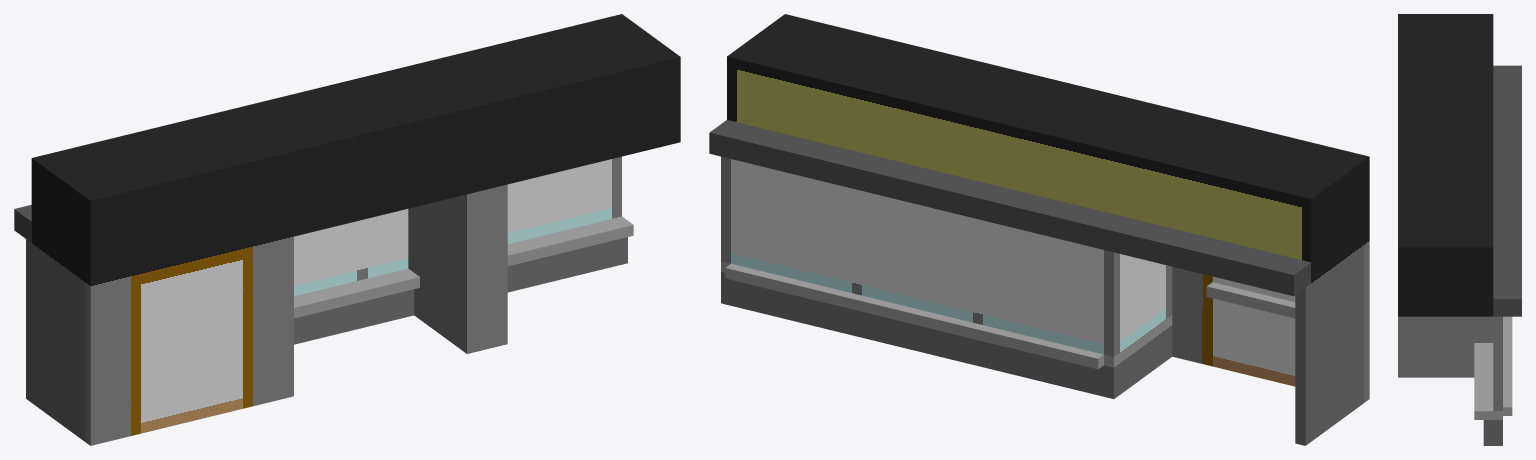
File: obj_store3b.dae
3 renders of one model, left to right at view 1: azimuth 30°, elevation 25°; view 2: azimuth 150°, elevation 25°; view 3: azimuth 270°, elevation 25°, orthographic. The views are drawn at different scales.
Parts seen in each view (by area): view 1: obj_store3b; view 2: obj_store3b; view 3: obj_store3b.
Boxes of the visible parts, bbox=[...] form: obj_store3b: bbox=[14, 14, 680, 445]; obj_store3b: bbox=[709, 14, 1369, 445]; obj_store3b: bbox=[1398, 14, 1521, 445].
Size of the model in its own units: 5.8 by 1.3 by 2.3.
1 material, 1 textured.
